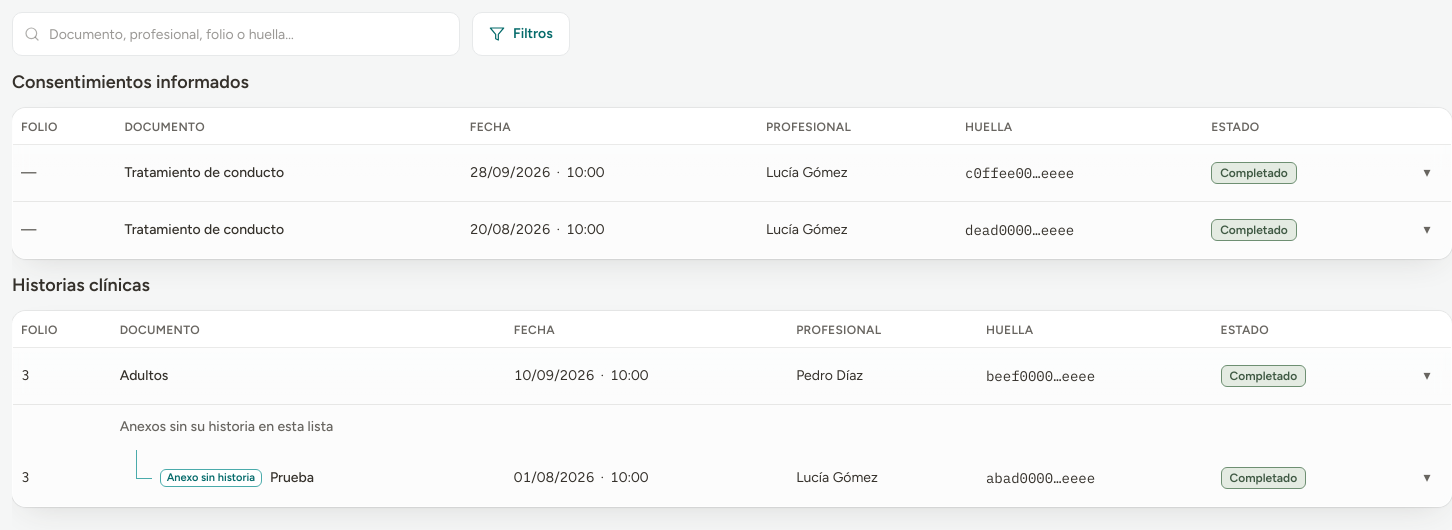
Test: RegistroDeDocumentos › el buscador a la vista: por documento y su tipo, profesional, folio o huella
Step 1. Type "consentimiento" into the search field named "Buscar por documento, profesional, folio o huella" → (236, 34), box [12,12,460,56]
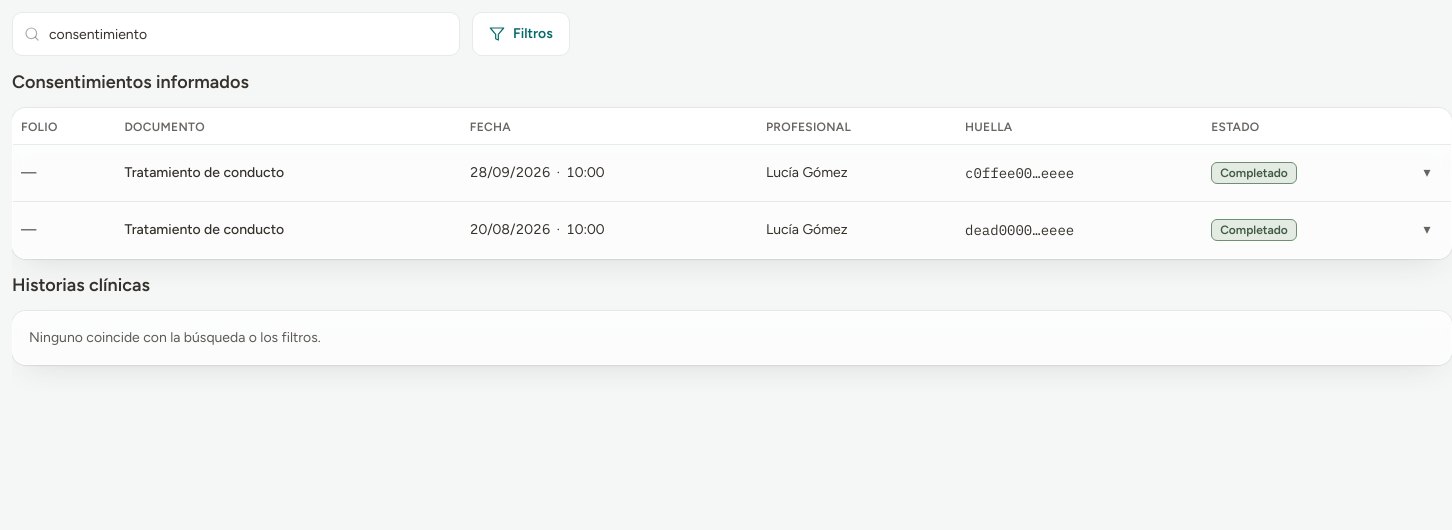
Step 2. Replace the text in the search field named "Buscar por documento, profesional, folio o huella" with "pedro diaz" → (236, 34), box [12,12,460,56]
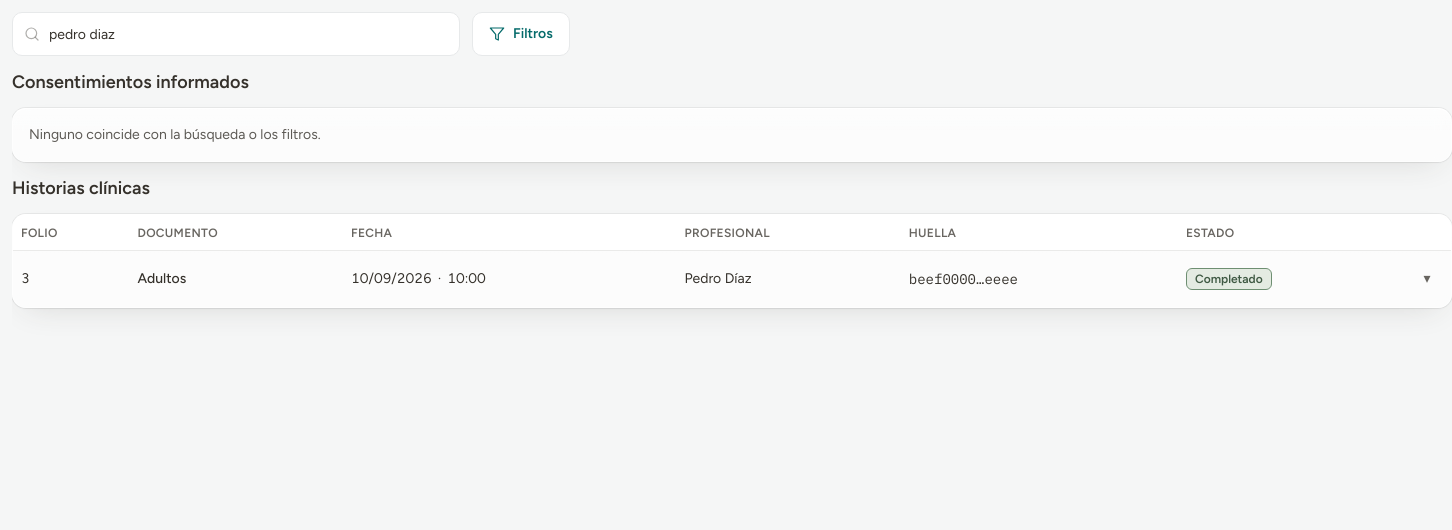
Step 3. Replace the text in the search field named "Buscar por documento, profesional, folio o huella" with "1" → (236, 34), box [12,12,460,56]
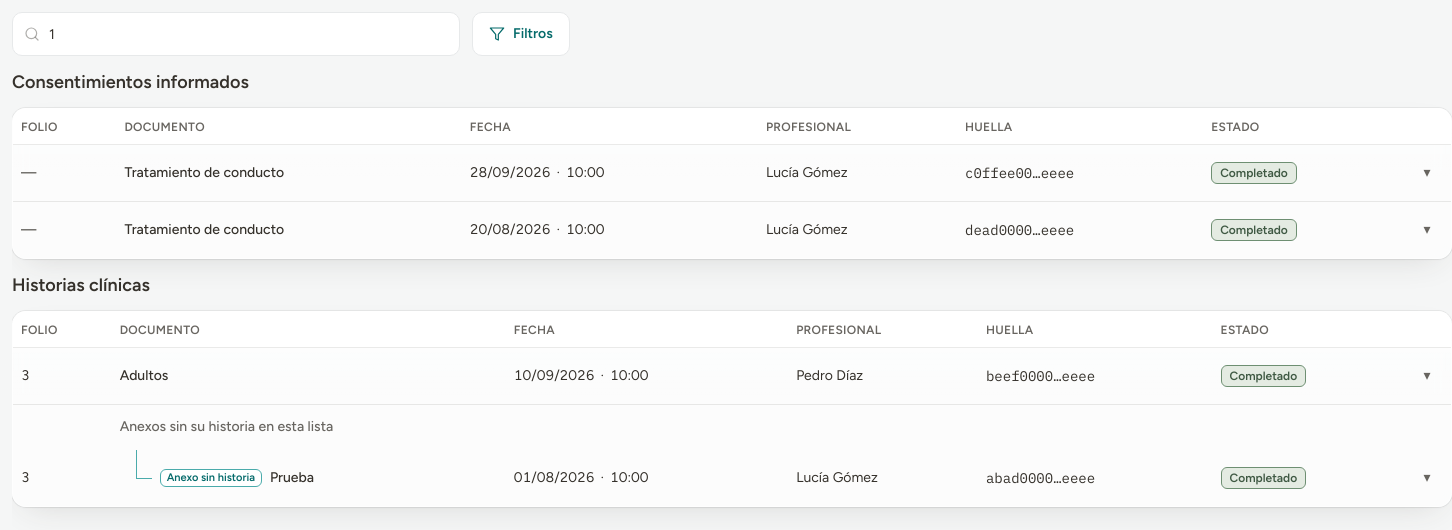
Step 4. Replace the text in the search field named "Buscar por documento, profesional, folio o huella" with "beef" → (236, 34), box [12,12,460,56]
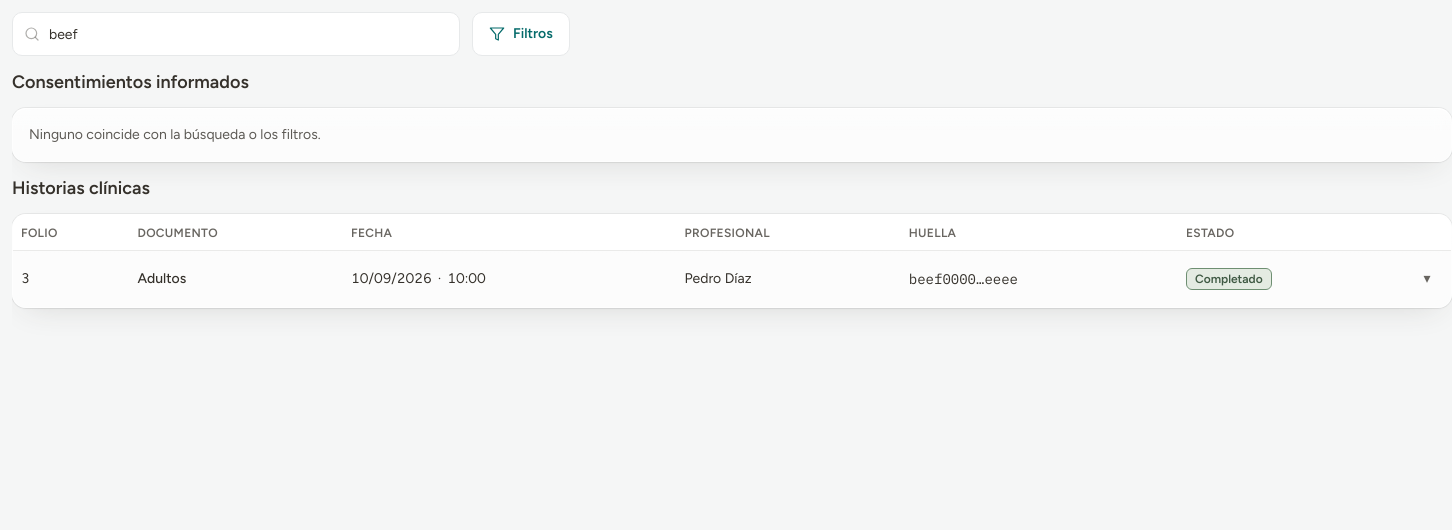
Step 5. Replace the text in the search field named "Buscar por documento, profesional, folio o huella" with "ninguno" → (236, 34), box [12,12,460,56]
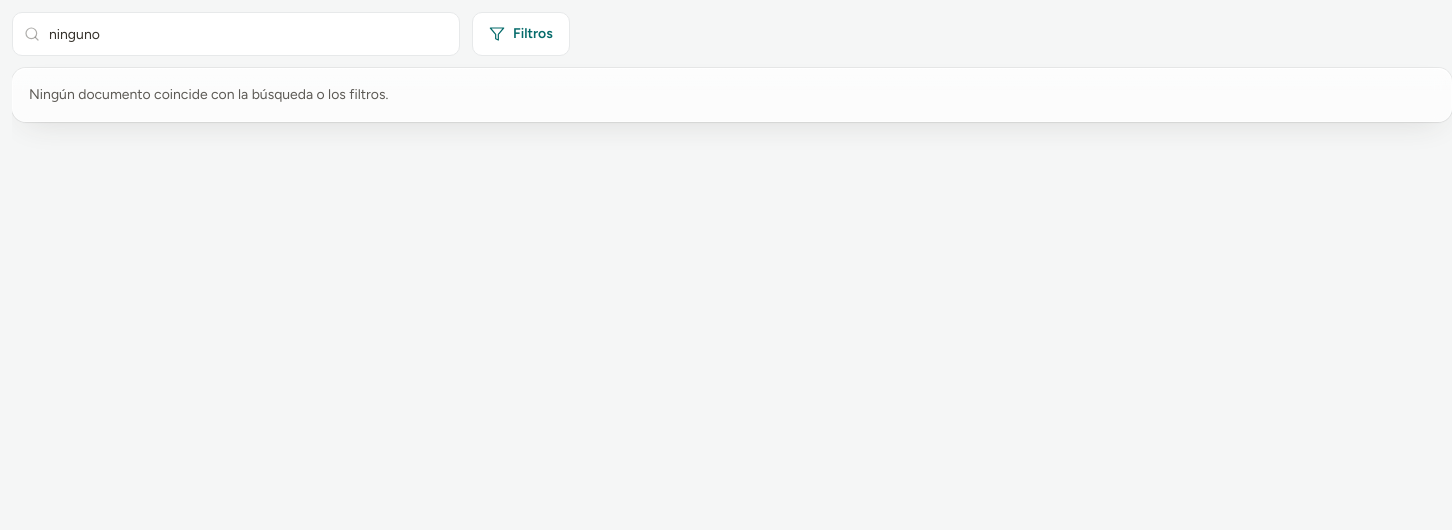
Expected: the text "Ningún documento coincide con la búsqueda o los filtros." is shown, [12,68,1451,122]
